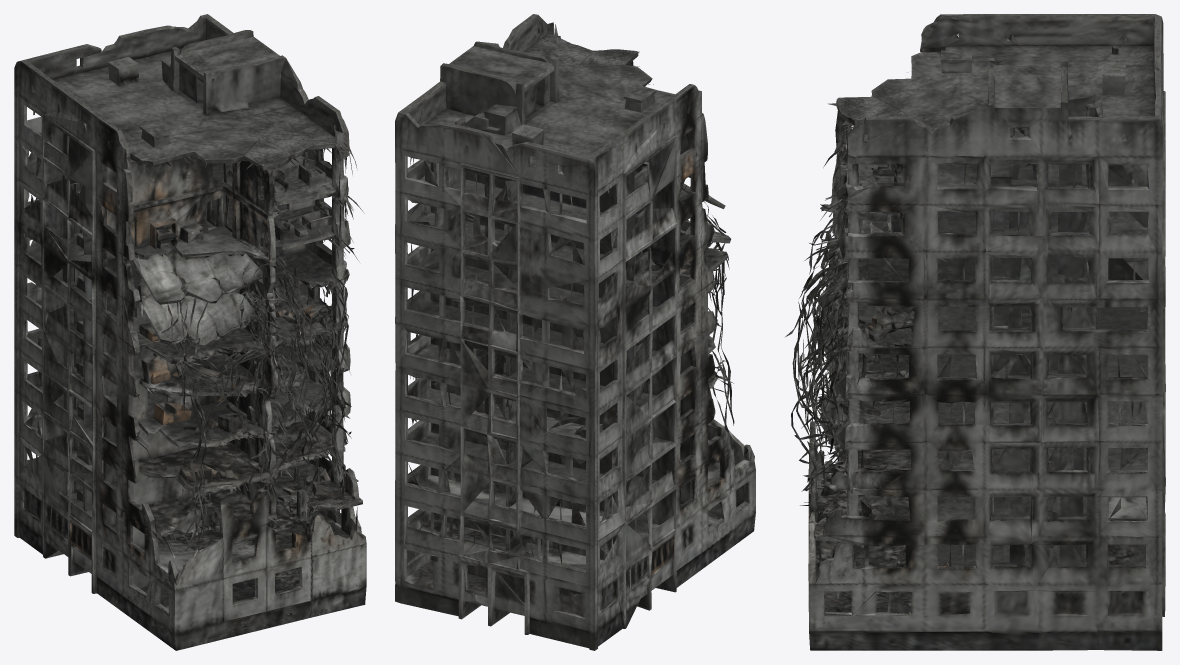
Rendered from city_tower_b.glb.
3 renders of one model, left to right at view 1: azimuth 30°, elevation 25°; view 2: azimuth 150°, elevation 25°; view 3: azimuth 270°, elevation 25°, orthographic. The views are drawn at different scales.
Parts seen in each view (by area): view 1: Mesh_0; view 2: Mesh_0; view 3: Mesh_0.
Part boxes in pixels (box(x1,y1,x2,y2)): Mesh_0: box(14, 14, 366, 650); Mesh_0: box(395, 14, 755, 650); Mesh_0: box(785, 14, 1165, 650).
Size of the model in its own units: 0.8213 by 1.9 by 1.2.
Materials: 1 (1 with a texture image).
